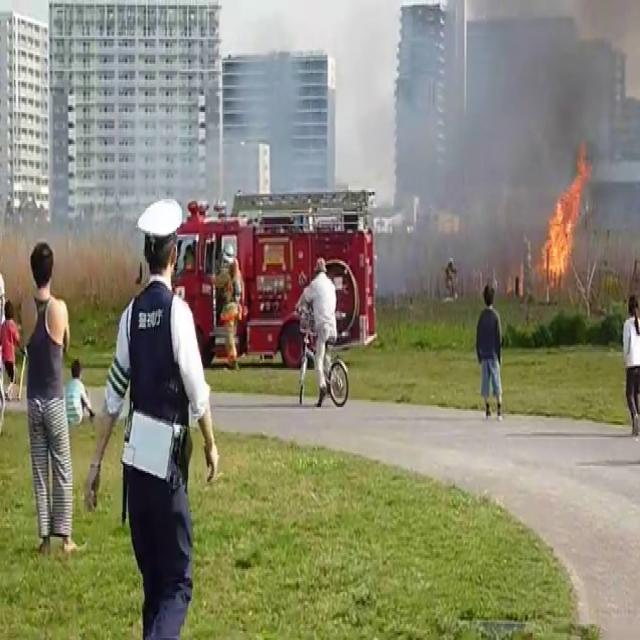Fire: (538, 139, 594, 289)
Smoke: (385, 0, 639, 261)
